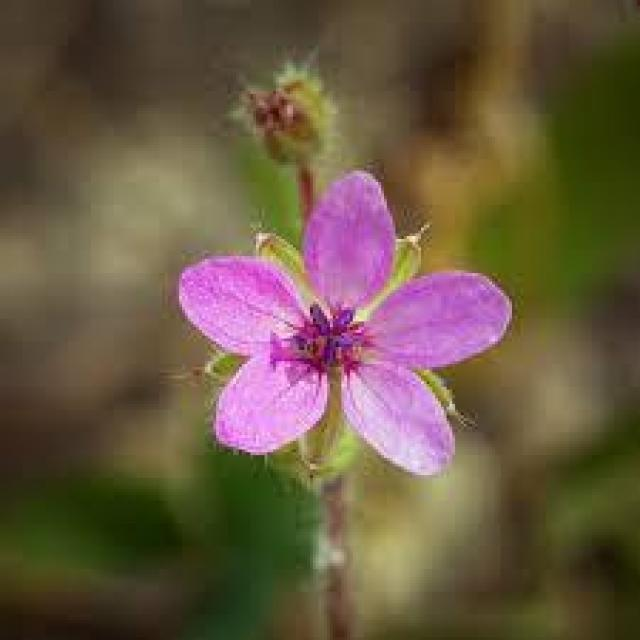organic waste: (168, 164, 509, 476)
